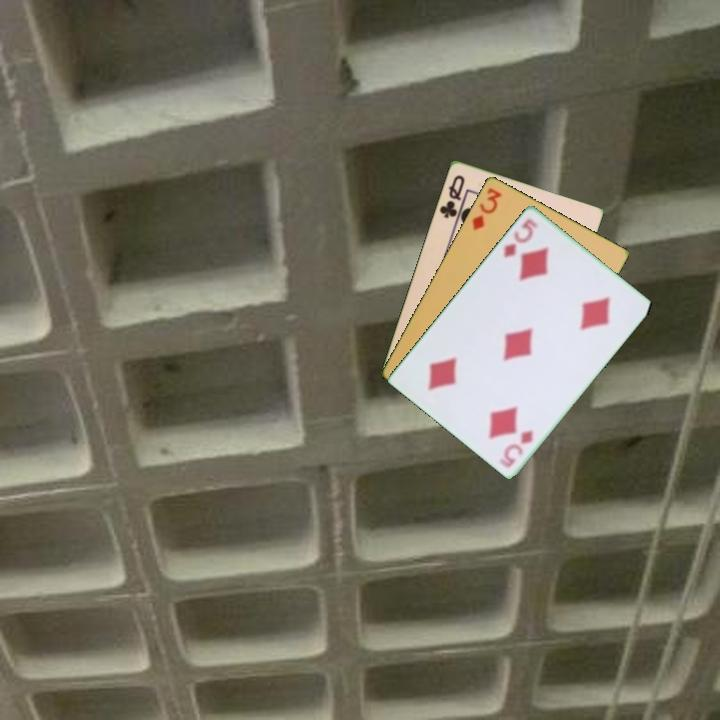3d: (468, 183, 505, 233)
5d: (495, 425, 536, 470), (500, 215, 540, 261)
Qc: (436, 171, 468, 221)
